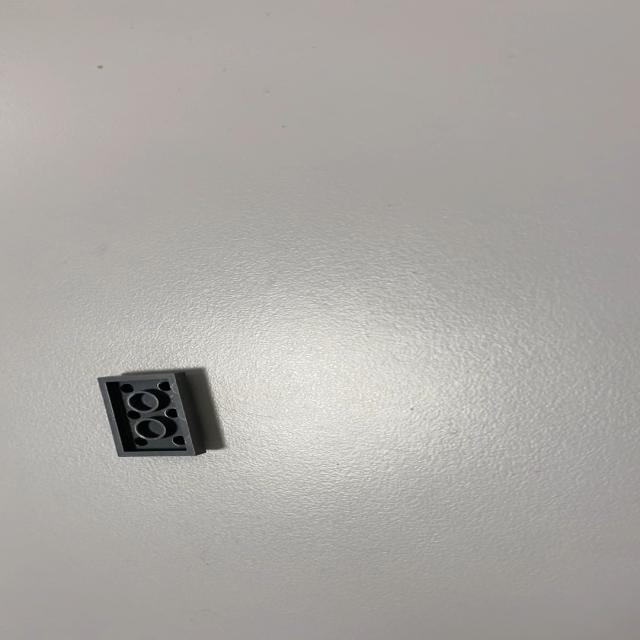C3x2x0: (96, 370, 206, 457)
